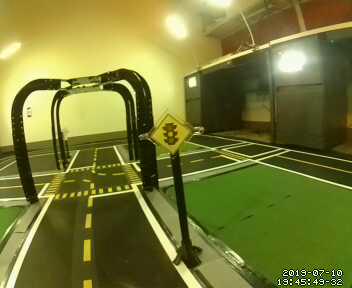Traffic light sign: (150, 112, 191, 152)
